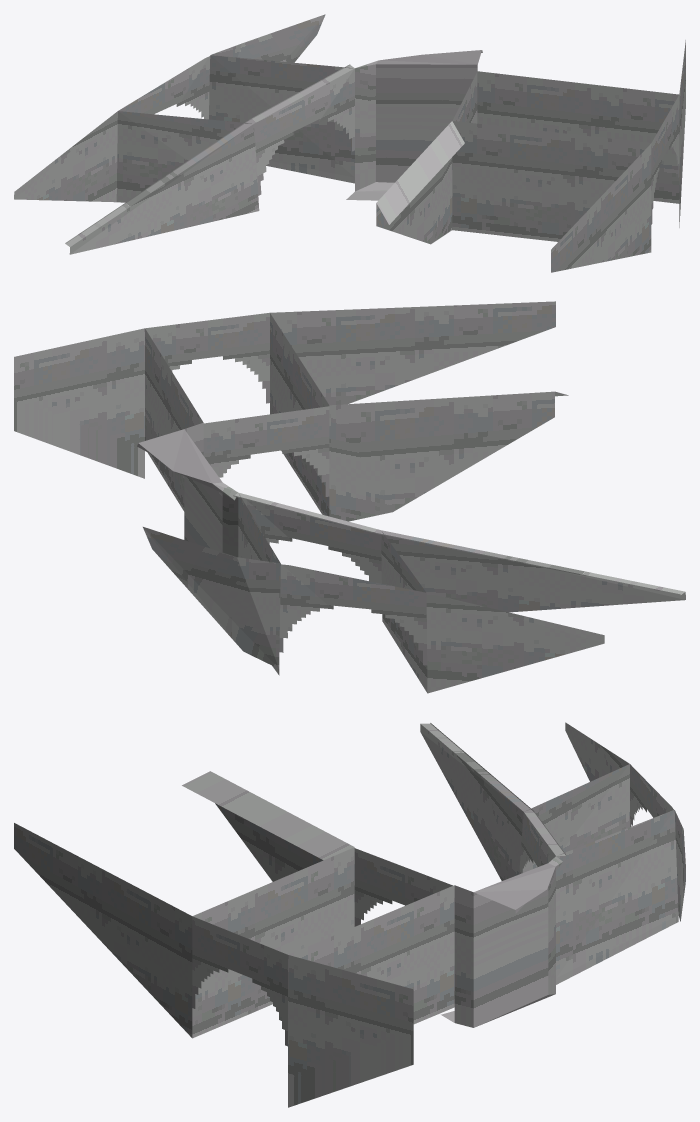
Rendered from lodhbrij_sfw.obj.
3 views of the same model, one above another, from view 1: azimuth 30°, elevation 25°; view 2: azimuth 150°, elevation 25°; view 3: azimuth 270°, elevation 25° (orthographic). The views are drawn at different scales.
Visible parts, largest first — view 1: LODhbrij_SFW; view 2: LODhbrij_SFW; view 3: LODhbrij_SFW.
Boxes of the visible parts, x1,y1,x2,y2 form: LODhbrij_SFW: (14,14,685,272); LODhbrij_SFW: (14,301,685,693); LODhbrij_SFW: (14,722,685,1107).
Size of the model in its own units: 125 by 26.55 by 106.
Materials: 2 (2 with a texture image).
